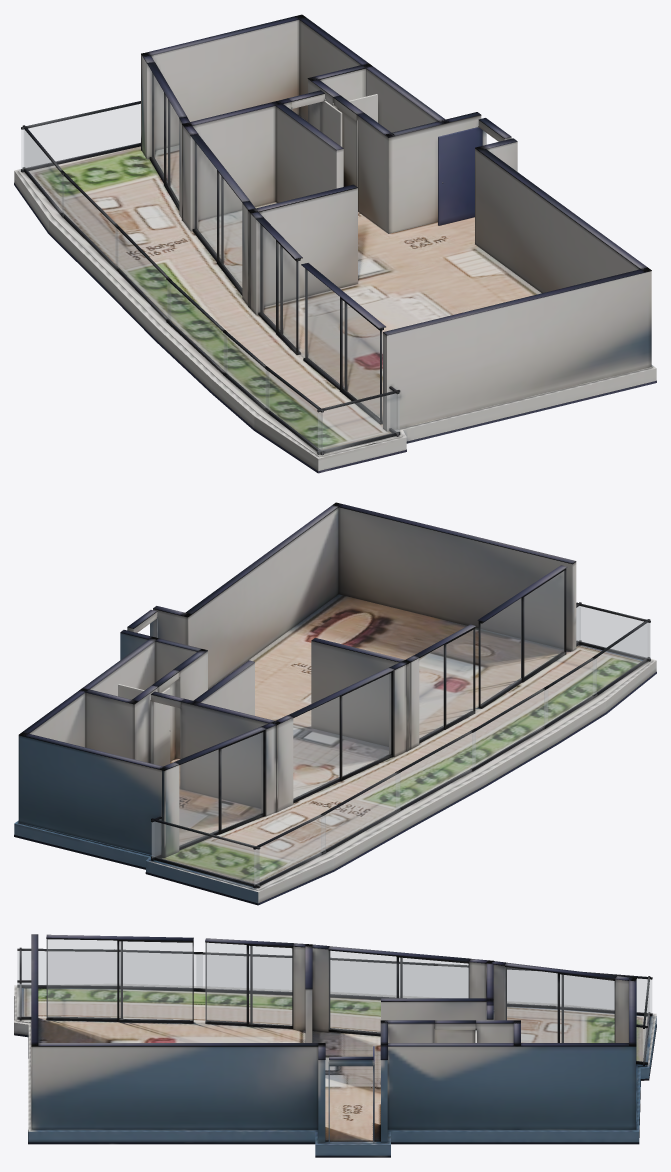
3 renders of one model, top to bottom at view 1: azimuth 30°, elevation 25°; view 2: azimuth 150°, elevation 25°; view 3: azimuth 270°, elevation 25°, orthographic. The views are drawn at different scales.
Visible parts, largest first — view 1: plan, glass3_m, railg0_m, glass1_m, railg3_m, glass2_m, railg6_m, glass0_m, railg4_m, railg8_m, railg7_m, railg5_m (+1 smaller); view 2: plan, glass1_m, glass3_m, glass0_m, glass2_m, railg0_m, railg7_m, railg8_m, railg6_m, railg9_m, railg3_m, railg4_m (+1 smaller); view 3: plan, glass3_m, glass1_m, glass0_m, glass2_m, railg7_m, railg6_m, railg4_m, railg5_m, railg8_m, railg9_m, railg2_m (+1 smaller).
Boxes of the visible parts, bbox=[...] form: plan: bbox=[14, 14, 656, 473]; glass3_m: bbox=[304, 268, 382, 421]; railg0_m: bbox=[21, 104, 140, 168]; glass1_m: bbox=[194, 141, 241, 289]; railg3_m: bbox=[318, 393, 399, 451]; glass2_m: bbox=[259, 223, 299, 352]; railg6_m: bbox=[167, 281, 227, 373]; glass0_m: bbox=[151, 71, 178, 203]; railg4_m: bbox=[266, 370, 322, 451]; railg8_m: bbox=[62, 175, 118, 267]; railg7_m: bbox=[115, 228, 170, 321]; railg5_m: bbox=[224, 333, 269, 410]; plan: bbox=[14, 502, 656, 905]; glass1_m: bbox=[293, 673, 390, 799]; glass3_m: bbox=[480, 571, 563, 705]; glass0_m: bbox=[179, 732, 262, 846]; glass2_m: bbox=[419, 630, 472, 739]; railg0_m: bbox=[152, 822, 259, 884]; railg7_m: bbox=[396, 732, 475, 809]; railg8_m: bbox=[321, 773, 399, 851]; railg6_m: bbox=[472, 689, 547, 768]; railg9_m: bbox=[254, 815, 325, 885]; railg3_m: bbox=[577, 606, 650, 658]; railg4_m: bbox=[593, 623, 648, 694]; plan: bbox=[14, 934, 656, 1157]; glass3_m: bbox=[47, 939, 192, 1020]; glass1_m: bbox=[329, 951, 468, 1033]; glass0_m: bbox=[505, 967, 614, 1042]; glass2_m: bbox=[205, 943, 291, 1025]; railg7_m: bbox=[331, 960, 431, 997]; railg6_m: bbox=[196, 954, 291, 991]; railg4_m: bbox=[17, 951, 113, 985]; railg5_m: bbox=[123, 952, 202, 988]; railg8_m: bbox=[438, 966, 550, 1005]; railg9_m: bbox=[556, 974, 651, 1013]; railg2_m: bbox=[17, 983, 30, 1016].
Bounding box in the file's own units: 9.4 × 2.62 × 15.8.
Materials: 2 (1 with a texture image).
